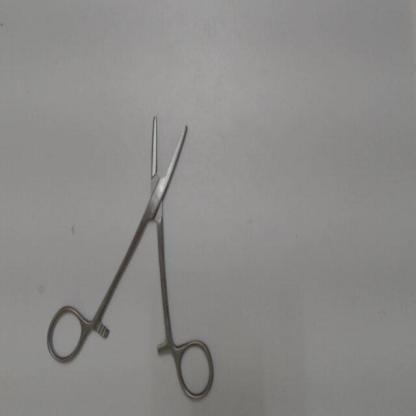Mayo Needle Holder: (40, 90, 222, 409)
